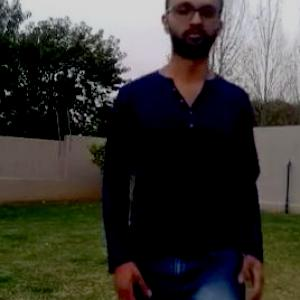follow: (134, 3, 243, 299)
